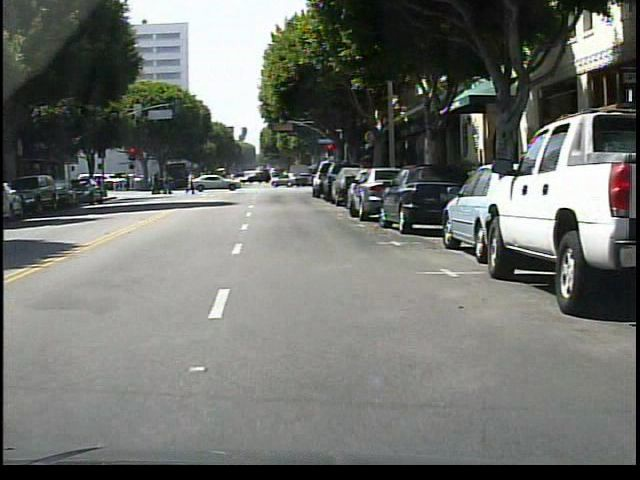person: (185, 167, 205, 196)
